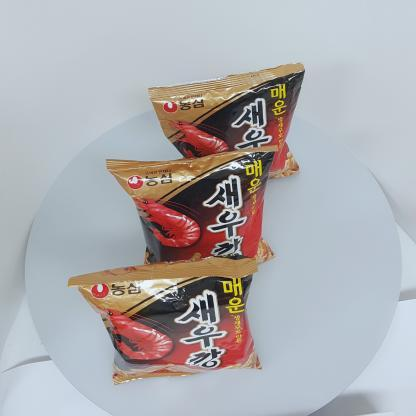Plastic Packaging: (66, 248, 266, 390), (110, 142, 276, 242), (152, 54, 307, 138)
